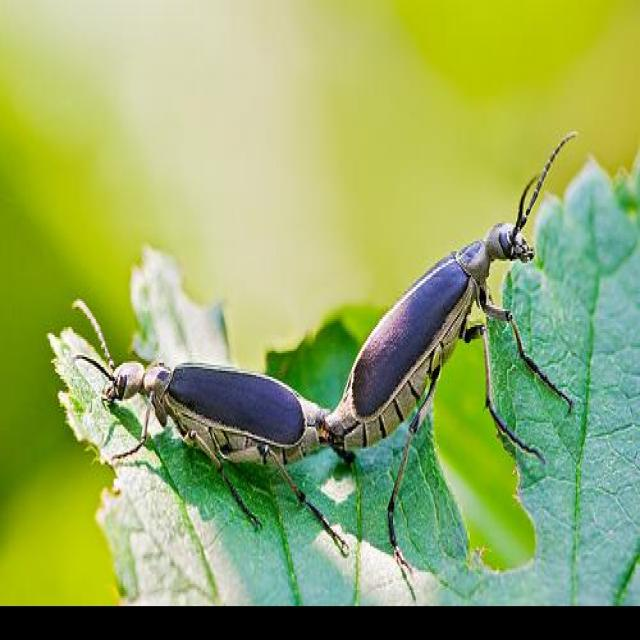BlisterBeetle-Adult-: (69, 287, 334, 544), (332, 192, 543, 478)
